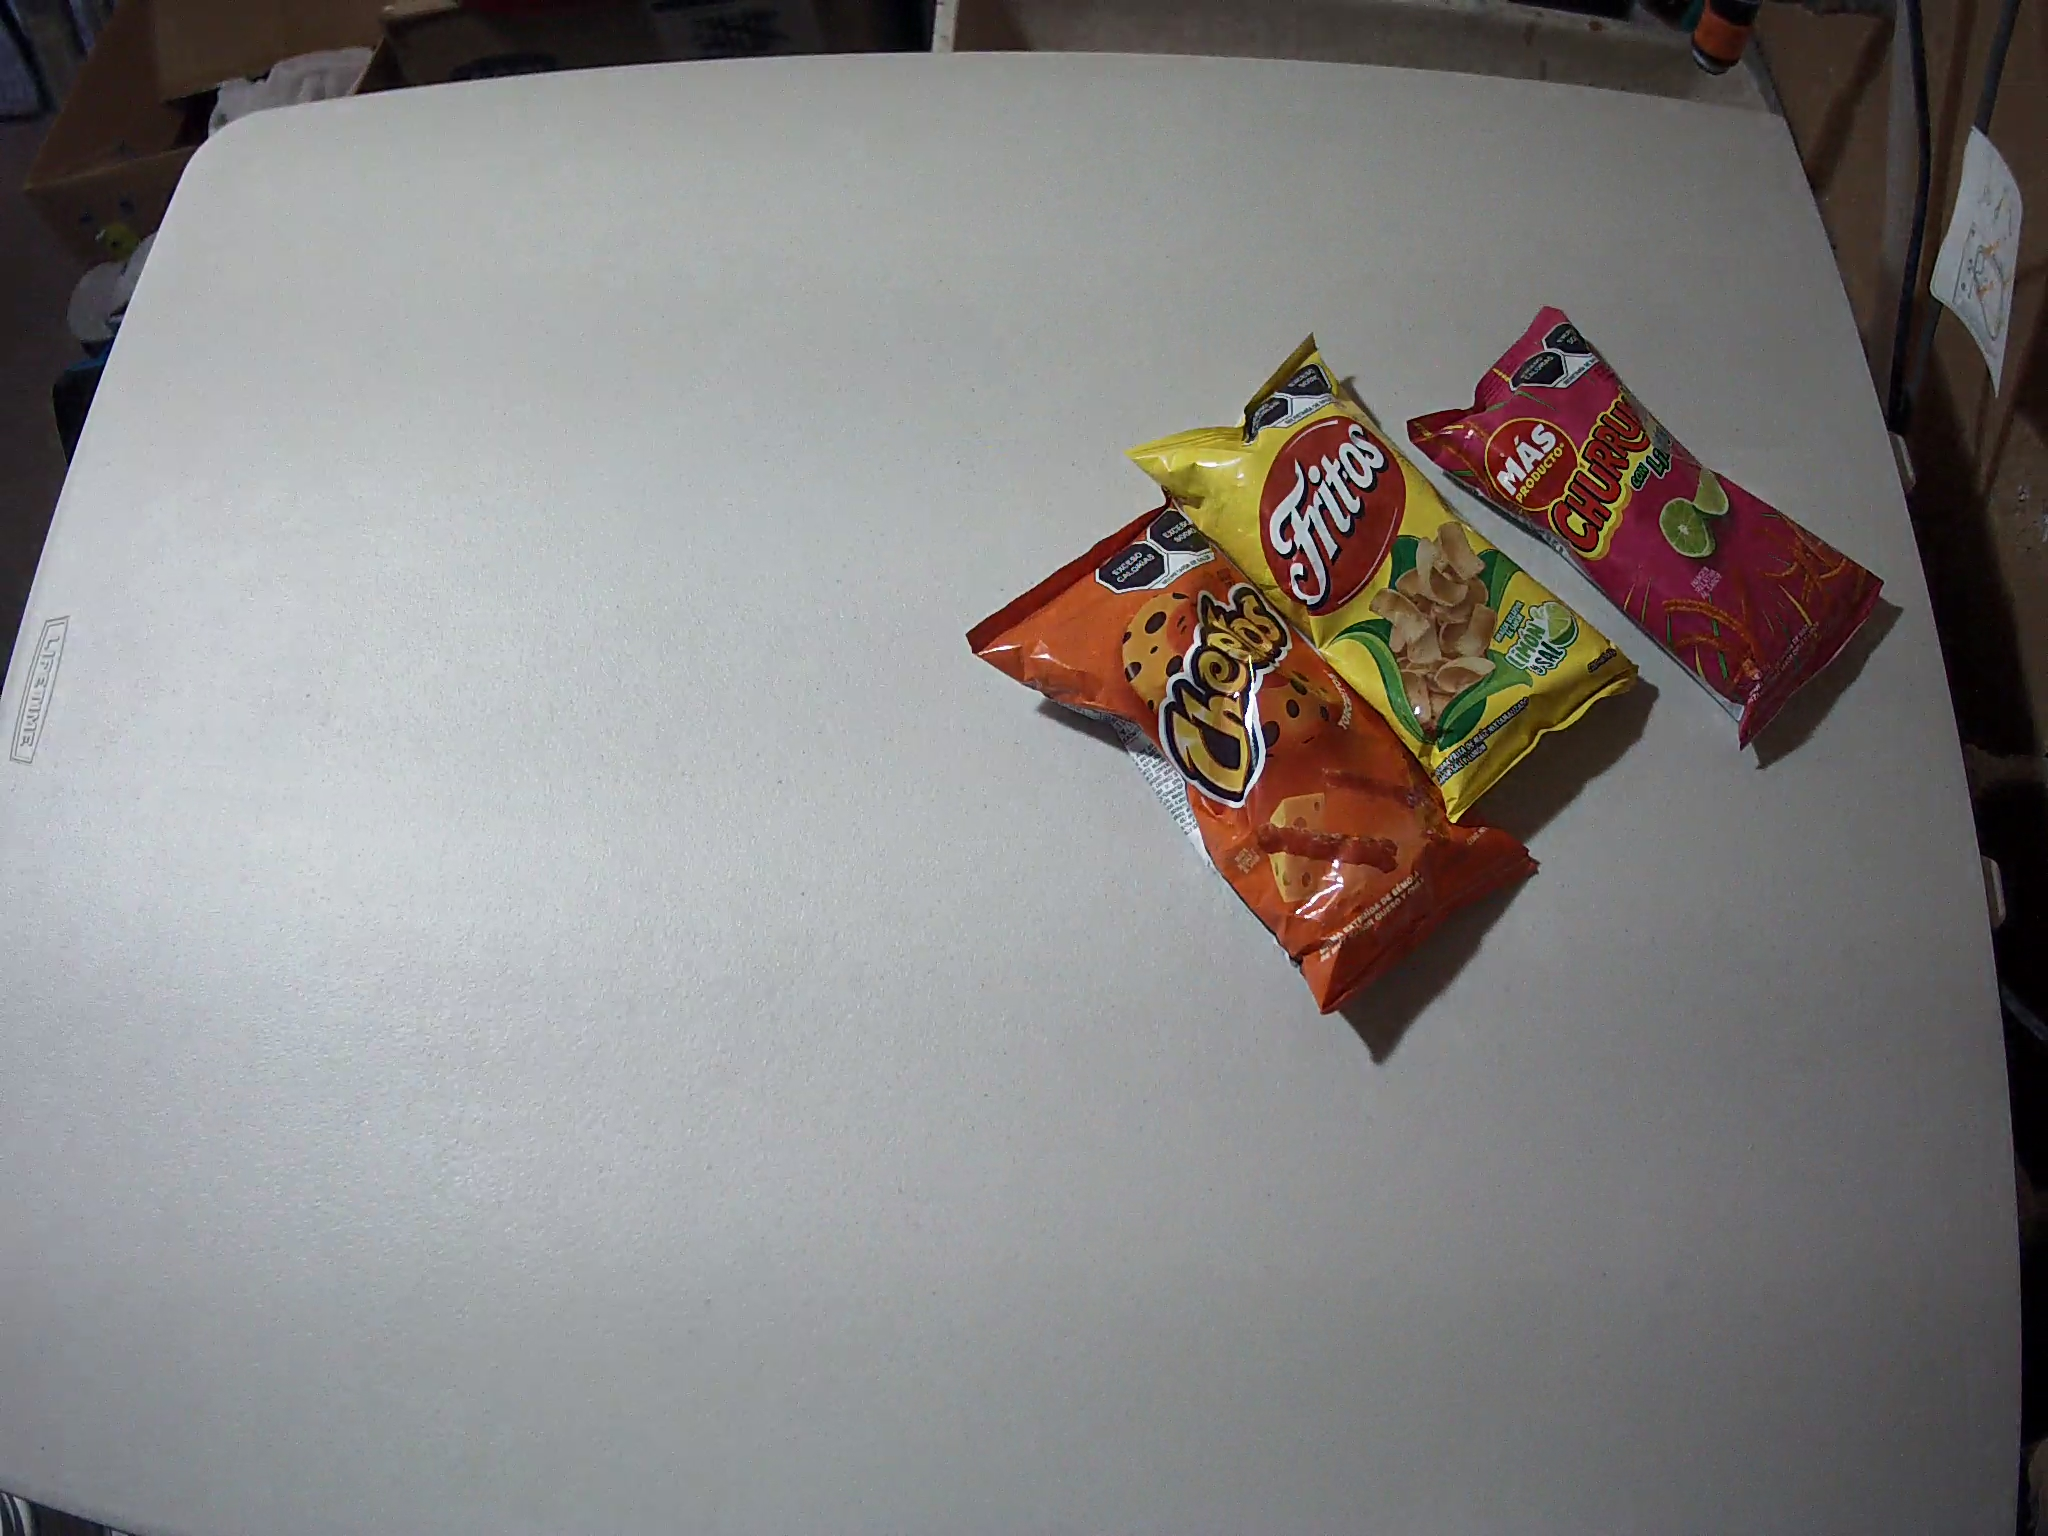CheetosTorciditos_55_F: (964, 478, 1543, 1013)
Churrumais_70_F: (1406, 307, 1884, 755)
FritosSalLimon_65_F: (1121, 331, 1638, 829)
